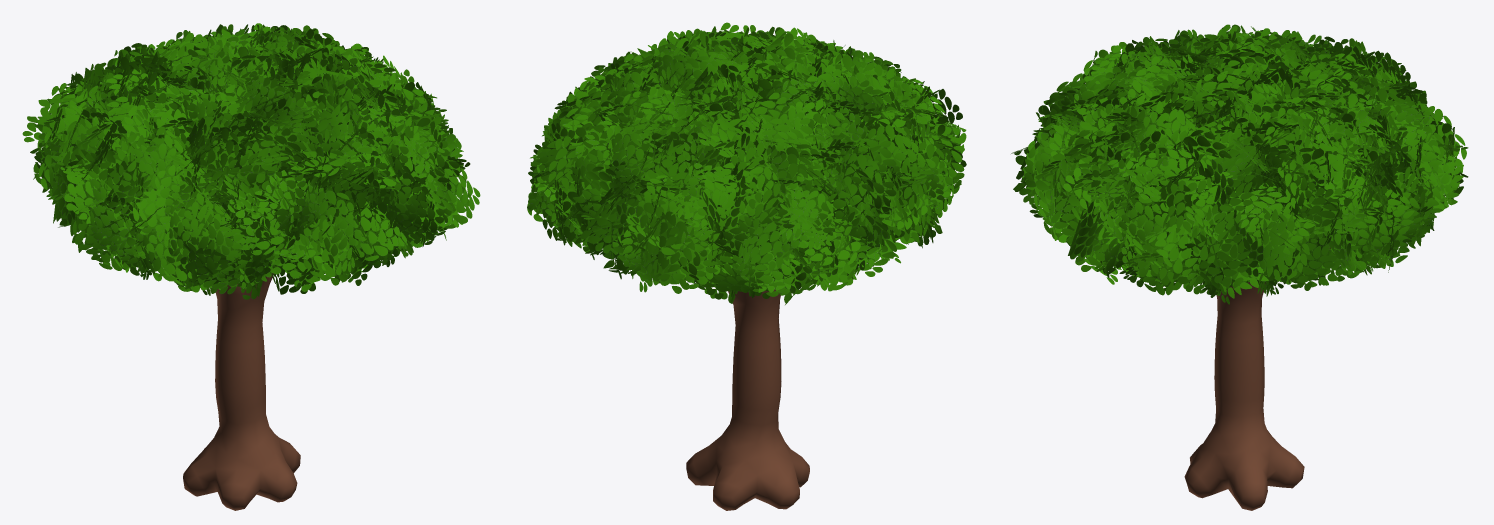
The model's file is tree7.fbx.
3 views of the same model, side by side, from view 1: azimuth 30°, elevation 25°; view 2: azimuth 150°, elevation 25°; view 3: azimuth 270°, elevation 25° (orthographic).
Parts seen in each view (by area): view 1: tree7_LOD0; view 2: tree7_LOD0; view 3: tree7_LOD0.
Boxes of the visible parts, box(x1,y1,x2,y2) form: tree7_LOD0: box(22, 23, 480, 510); tree7_LOD0: box(527, 22, 966, 510); tree7_LOD0: box(1011, 24, 1468, 510).
Size of what is drawn, in the model's own units: 16.54 by 17.02 by 16.84.
